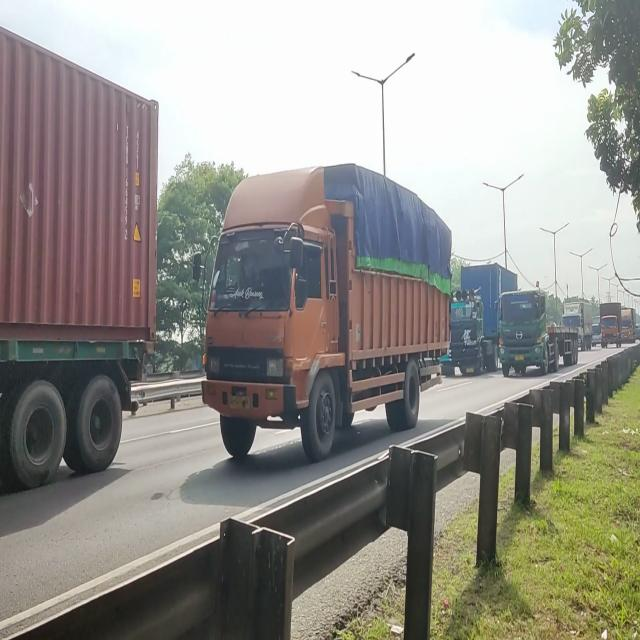Golongan II: (202, 167, 453, 471)
